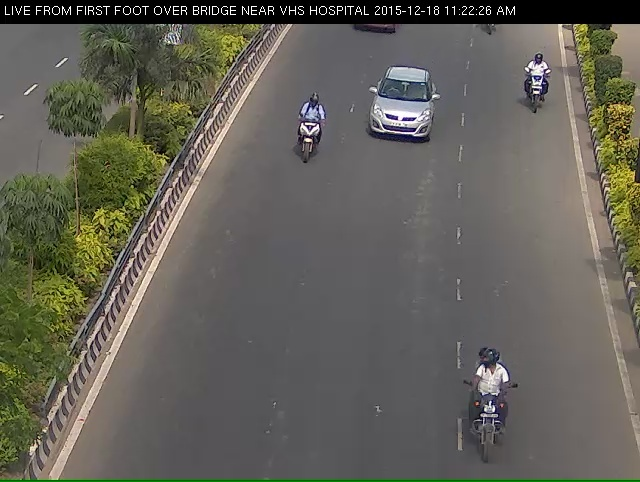Car: (364, 66, 435, 154)
Person: (460, 363, 515, 472), (290, 100, 324, 185), (519, 58, 556, 125)
